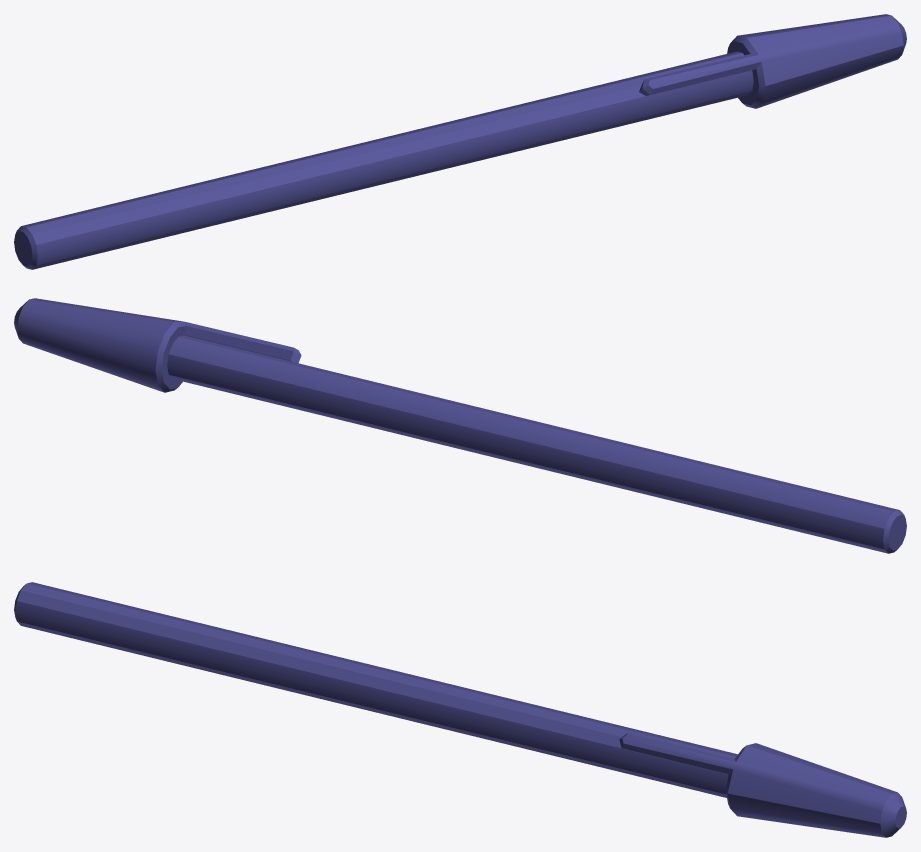
The model's file is SM_Pen.fbx.
3 renders of one model, top to bottom at view 1: azimuth 30°, elevation 25°; view 2: azimuth 150°, elevation 25°; view 3: azimuth 330°, elevation 25°, orthographic.
Parts seen in each view (by area): view 1: SM_Pen; view 2: SM_Pen; view 3: SM_Pen.
Part boxes in pixels (box(x1,y1,x2,y2)): SM_Pen: box(14, 14, 906, 269); SM_Pen: box(14, 298, 906, 553); SM_Pen: box(14, 582, 906, 837).
Bounding box in the file's own units: 25.01 × 1.87 × 1.87.
